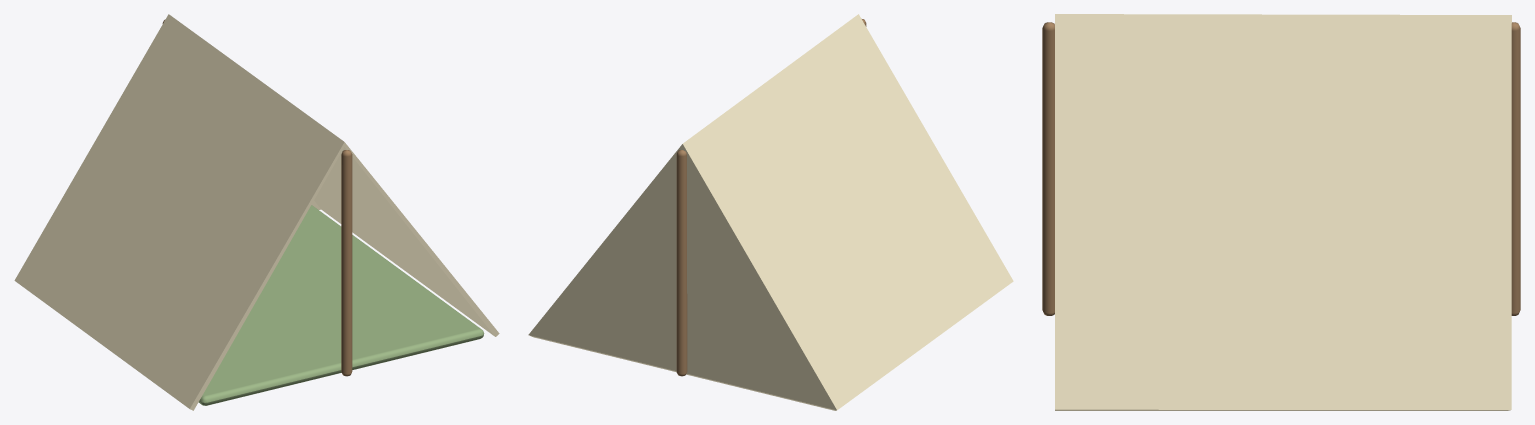
File: tent.glb
The picture shows the model from 3 angles, left to right: view 1: azimuth 30°, elevation 25°; view 2: azimuth 150°, elevation 25°; view 3: azimuth 270°, elevation 25°; orthographic projection. The views are drawn at different scales.
Parts seen in each view (by area): view 1: Canvas, Groundsheet, Front pole; view 2: Canvas, Back pole; view 3: Canvas, Front pole, Back pole.
Boxes of the visible parts, x1,y1,x2,y2 form: Canvas: (14,14,499,410); Groundsheet: (198,205,484,405); Front pole: (341,150,352,376); Canvas: (528,14,1013,410); Back pole: (676,150,687,376); Canvas: (1055,14,1511,410); Front pole: (1042,22,1054,315); Back pole: (1511,22,1520,315).
Bounding box in the file's own units: 1.64 × 1.17 × 1.69.
